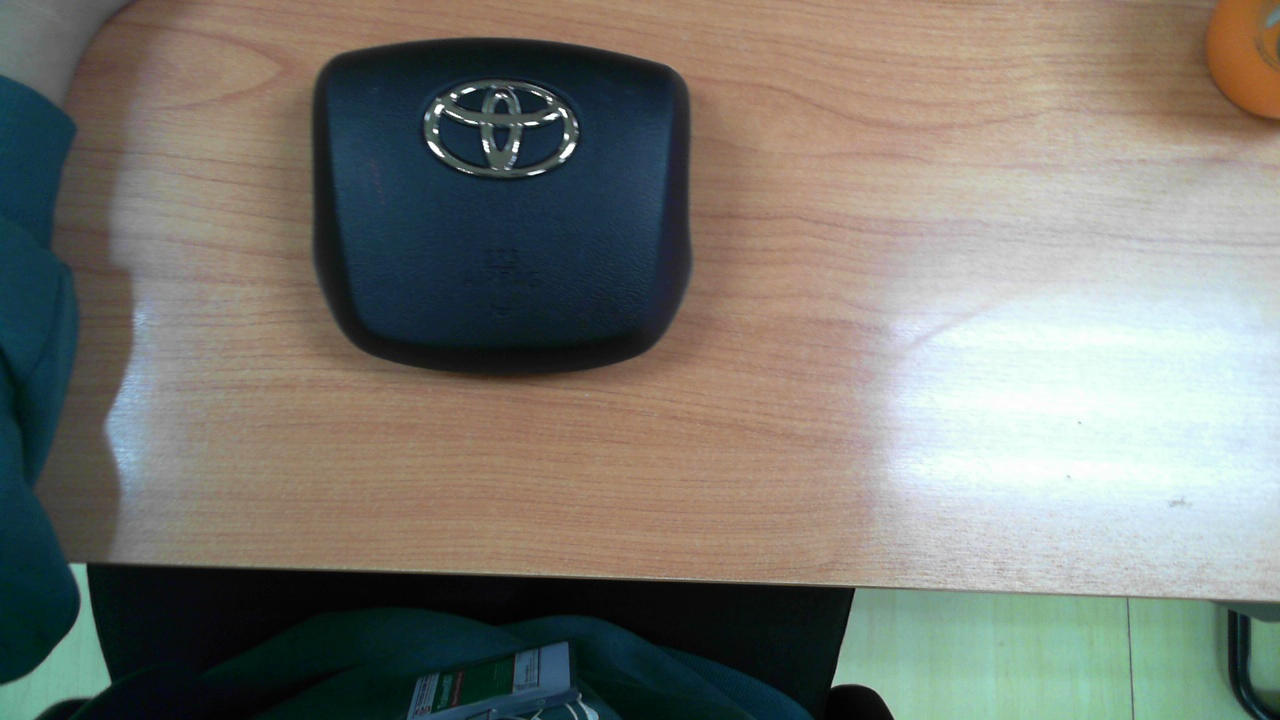Airbag: (311, 37, 692, 382)
Toyota: (424, 79, 579, 178)
